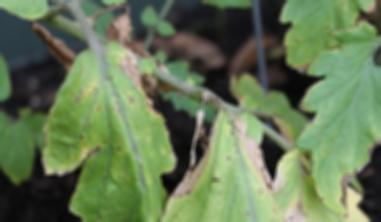Tomato Early blight leaf: (42, 43, 177, 222), (292, 15, 381, 220), (157, 104, 304, 222)
